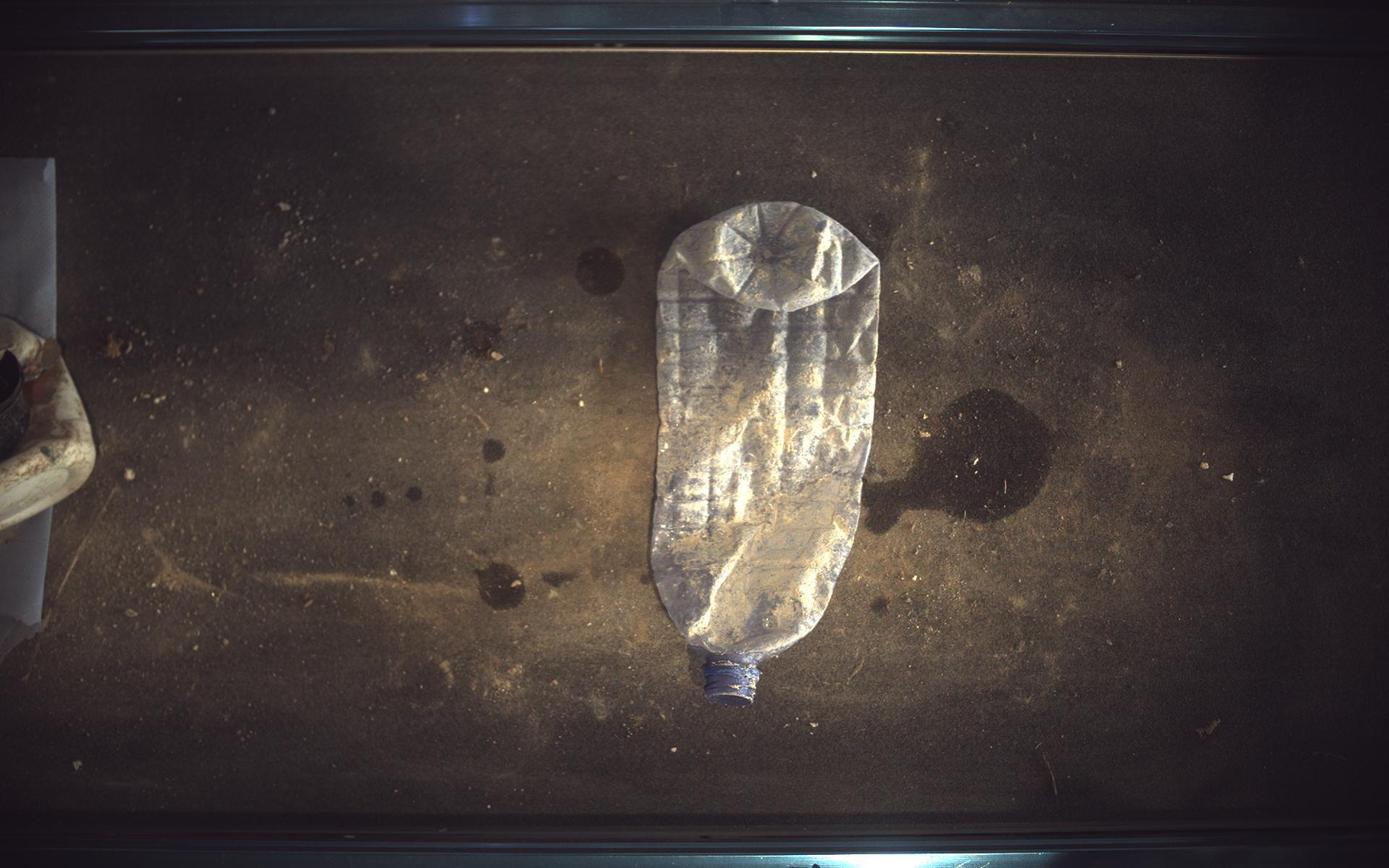general_w: (652, 201, 882, 707)
